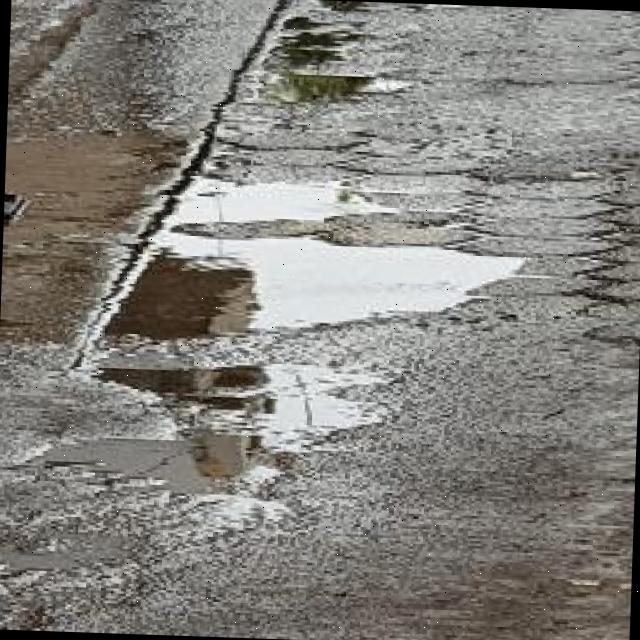stagnation: (108, 220, 485, 372)
